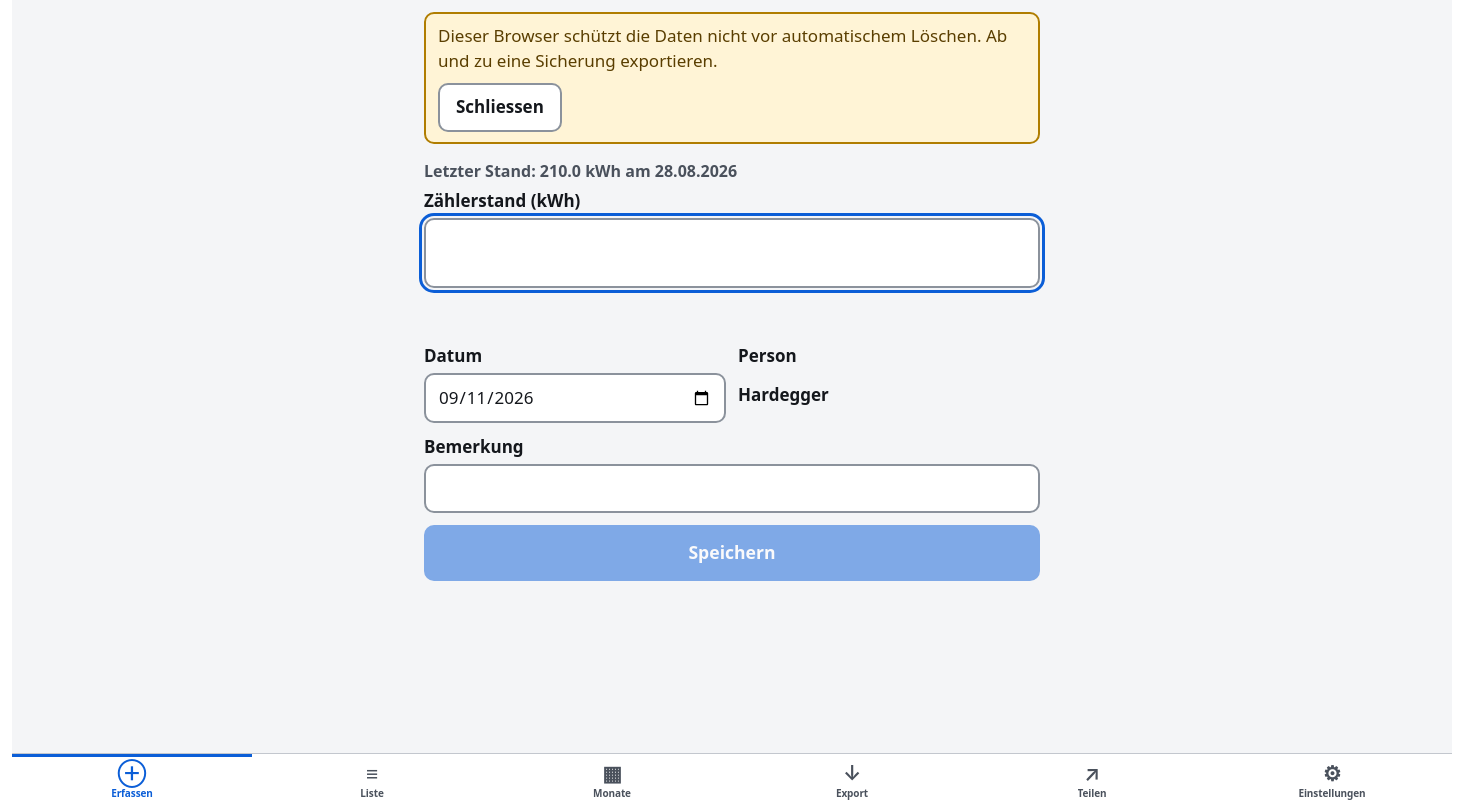
saving (FR-1.4, AC-3) › saves and confirms with the consumption in two interactions
Type "250" into the field labelled "Zählerstand (kWh)" at {"x": 732, "y": 253}, box [424,218,1040,288]
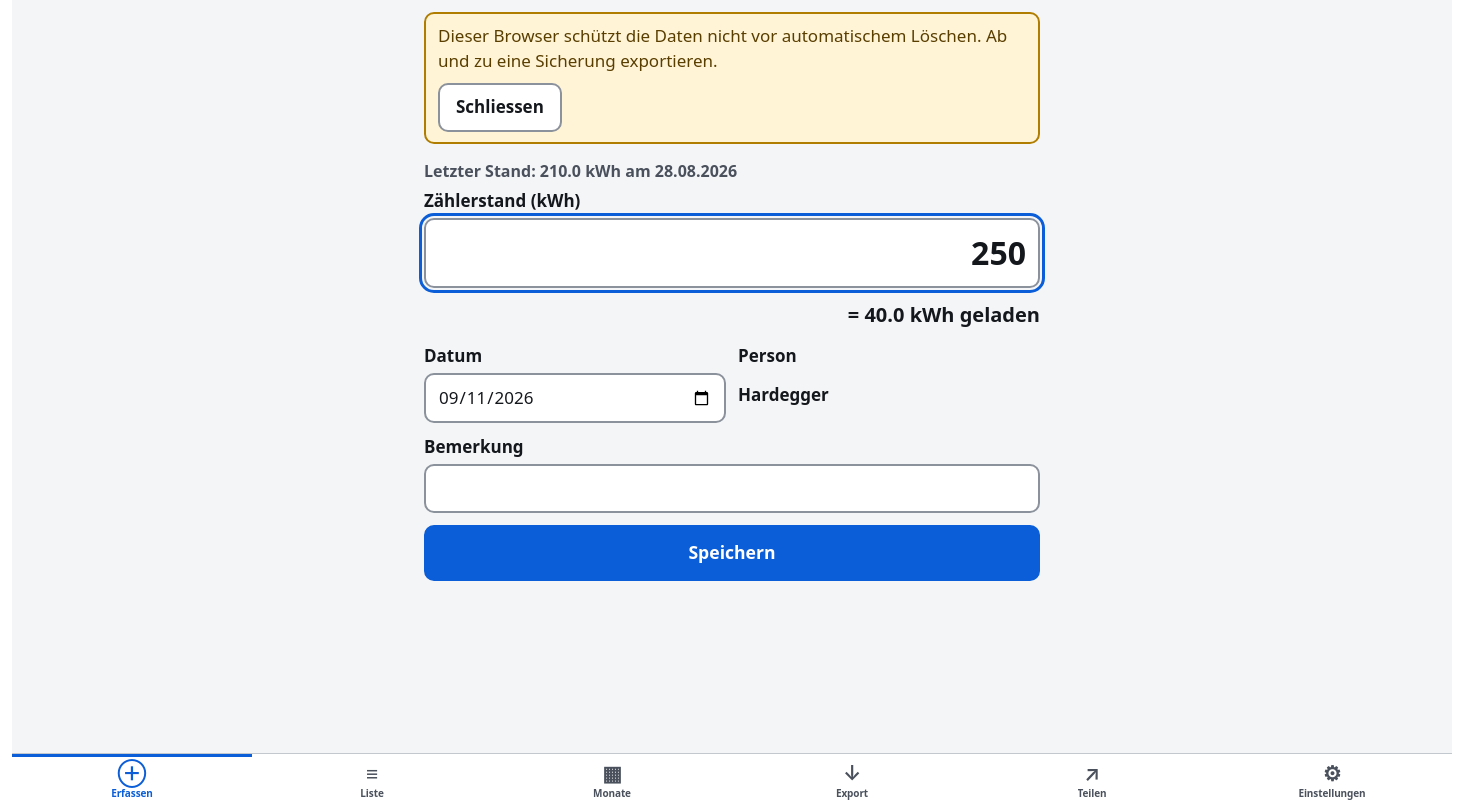
Click the button "Speichern" at {"x": 732, "y": 553}, box [424,525,1040,581]
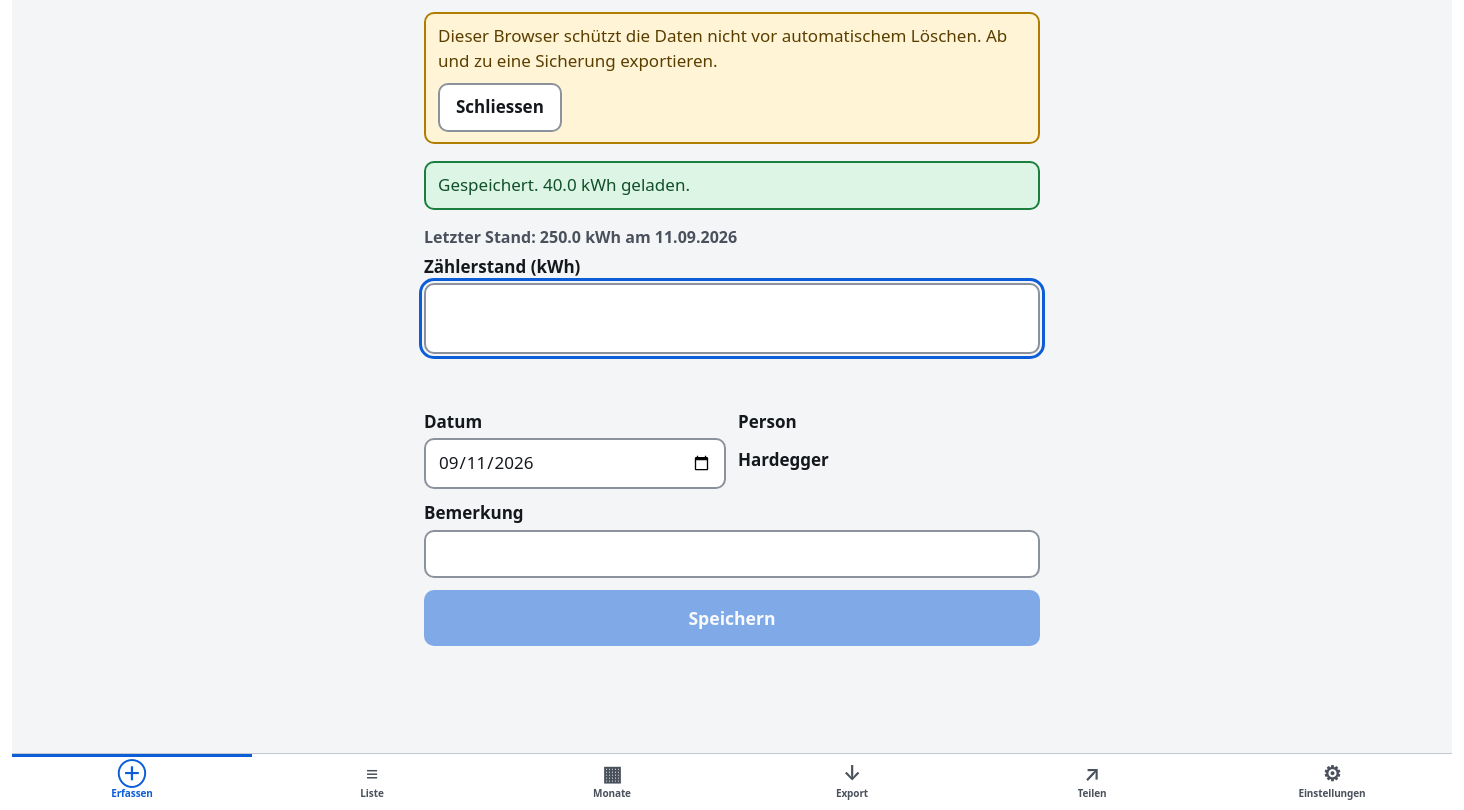
Now the text "Gespeichert. 40.0 kWh geladen." is shown, box [424,161,1040,210]
